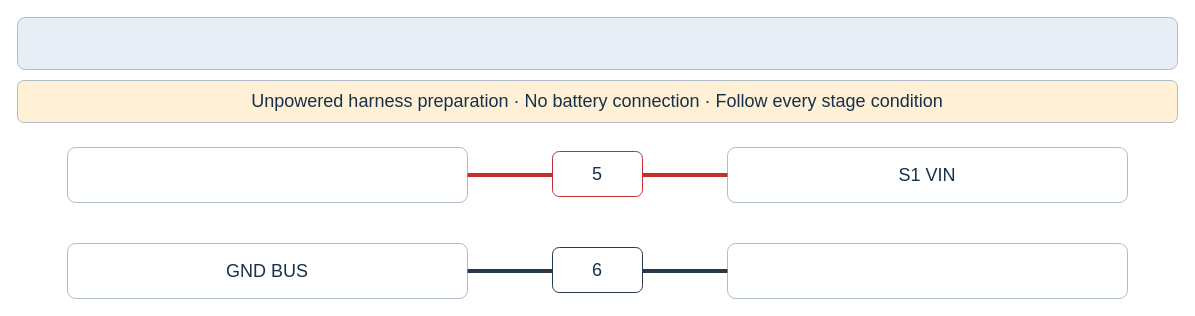
Some shapes in this 1195 by 316 pixel diagram are drawn without their labels. The shapes that lost their labels are listed below. From the top down, each one's box as (x1, y1, x2, y2) in pixels, then its label:
(16, 16, 1178, 70): 3 · Add the LiDAR power switch
(66, 146, 468, 202): 5V BUS
(726, 242, 1128, 298): S1 GND
